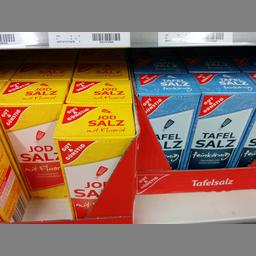spices: (52, 102, 134, 220), (0, 79, 67, 198), (190, 72, 255, 169), (134, 72, 196, 168)
